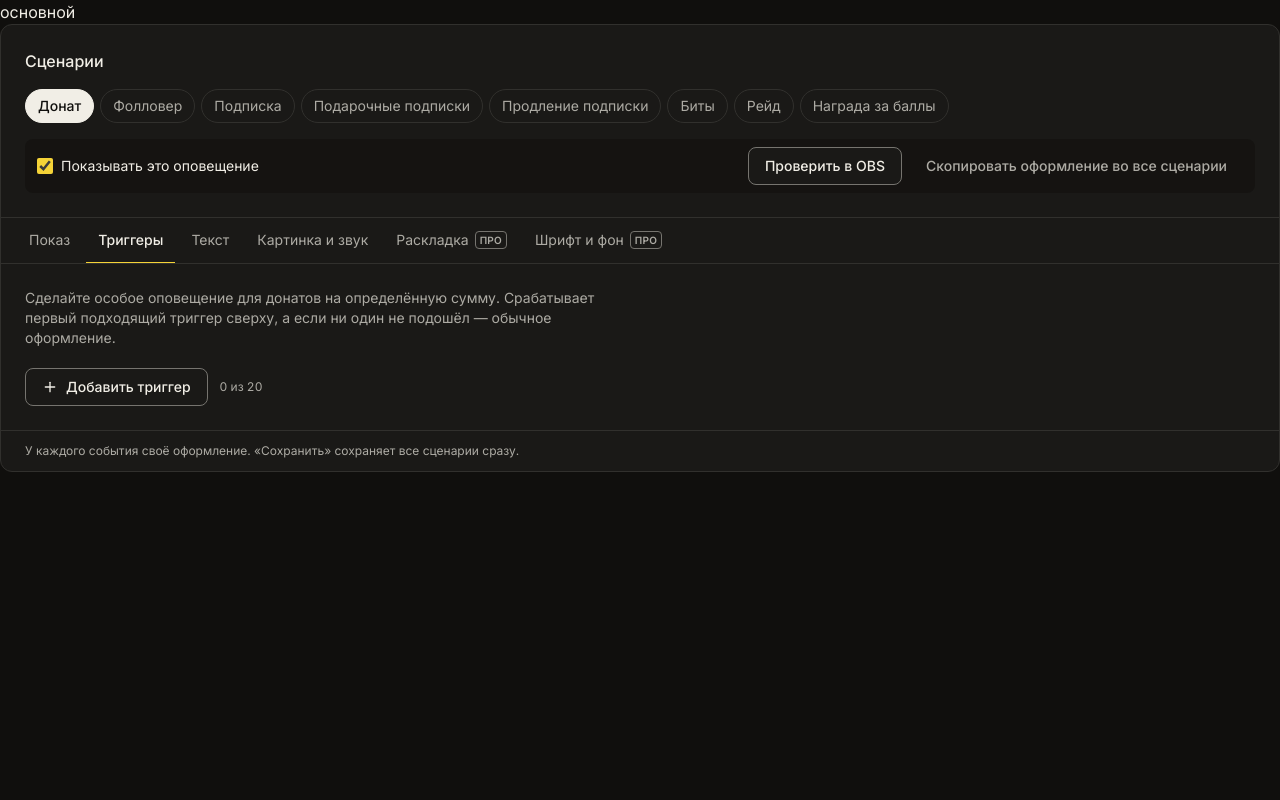
Test: триггеры доната › вкладка триггеров — только у доната
Expected: the tab "Триггеры" is shown, [86, 218, 175, 264]
Click the tab "Фолловер" at (148, 106), box [100, 89, 195, 123]
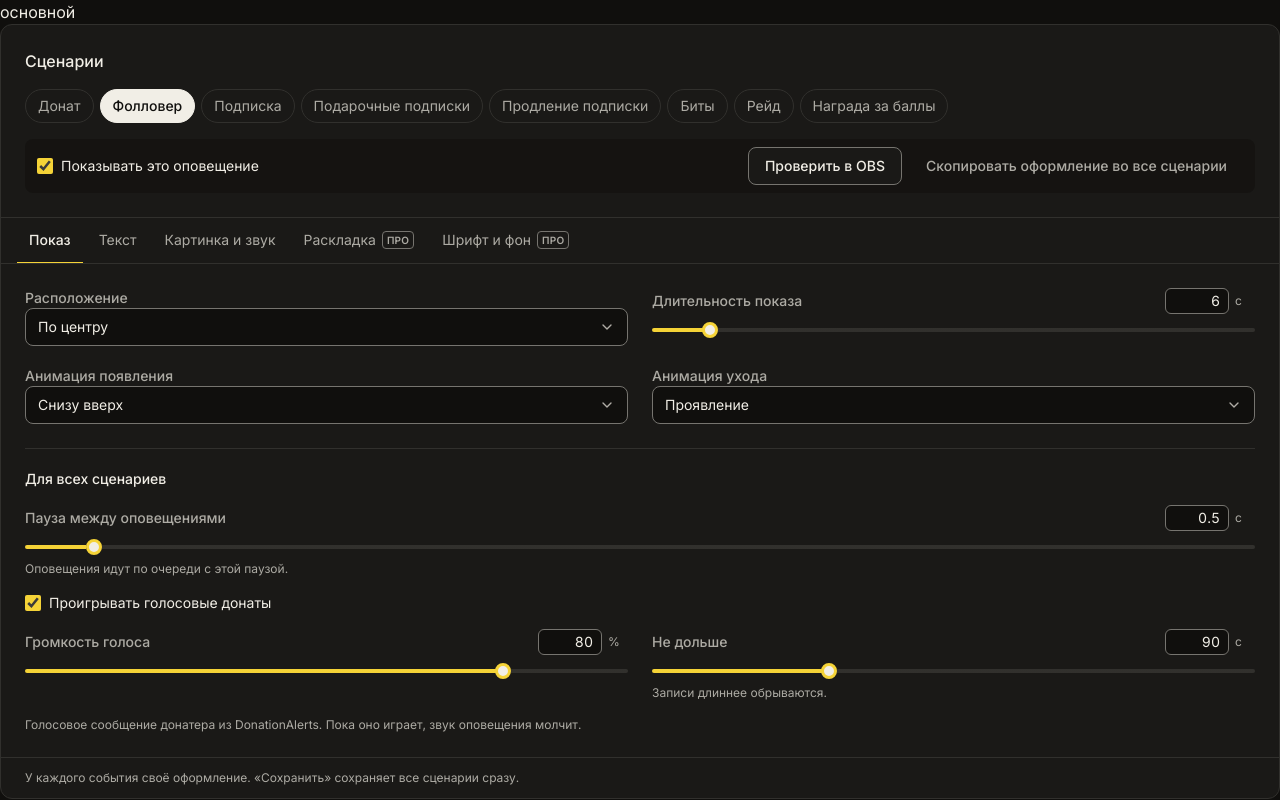
Expected: the tab "Триггеры" is gone
